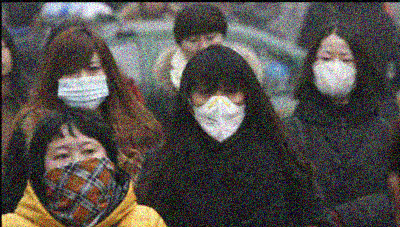with_mask: (41, 138, 110, 219), (190, 79, 247, 141), (55, 58, 112, 113), (312, 49, 359, 99)
without_mask: (183, 33, 222, 61)
